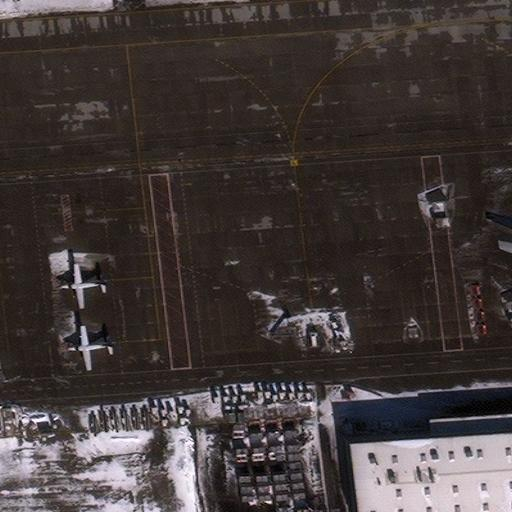Medium Civil Transport: (69, 325, 113, 372), (61, 265, 106, 309)
